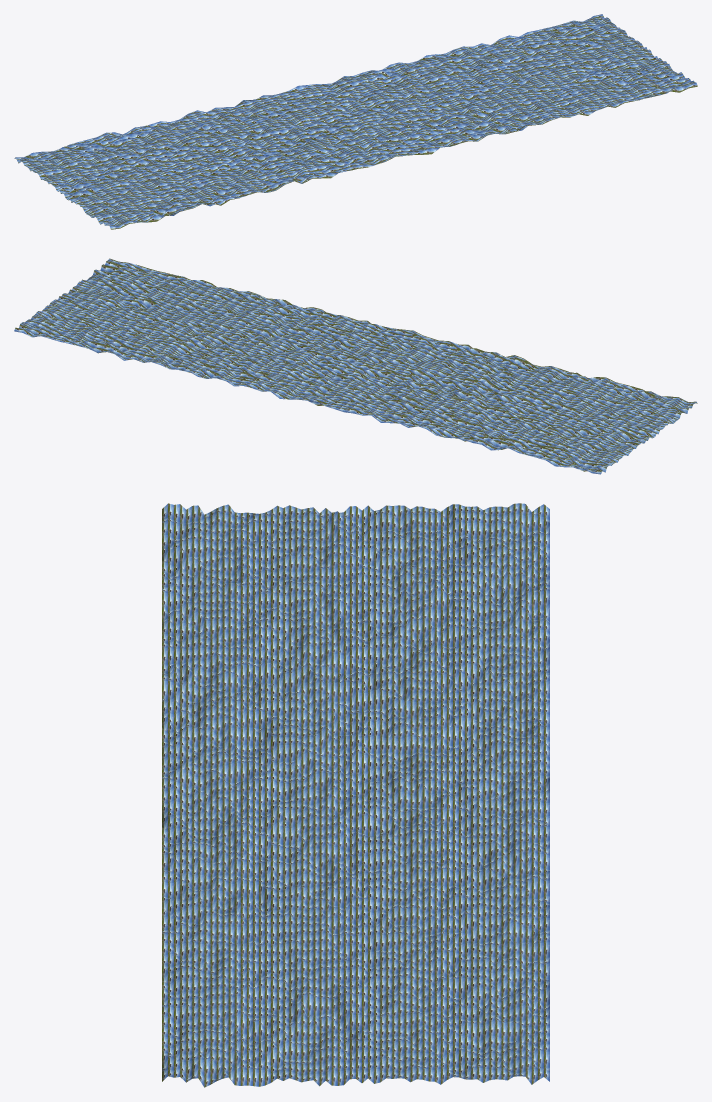
Rendered from test_terr_4.obj.
3 renders of one model, top to bottom at view 1: azimuth 30°, elevation 25°; view 2: azimuth 150°, elevation 25°; view 3: azimuth 270°, elevation 25°, orthographic. The views are drawn at different scales.
Visible parts, largest first — view 1: Plane; view 2: Plane; view 3: Plane.
Part boxes in pixels (x1,y1,x2,y2): Plane: (14,14,697,229); Plane: (14,258,697,474); Plane: (162,503,549,1087).
Size of the model in its own units: 1671 by 21.91 by 478.
